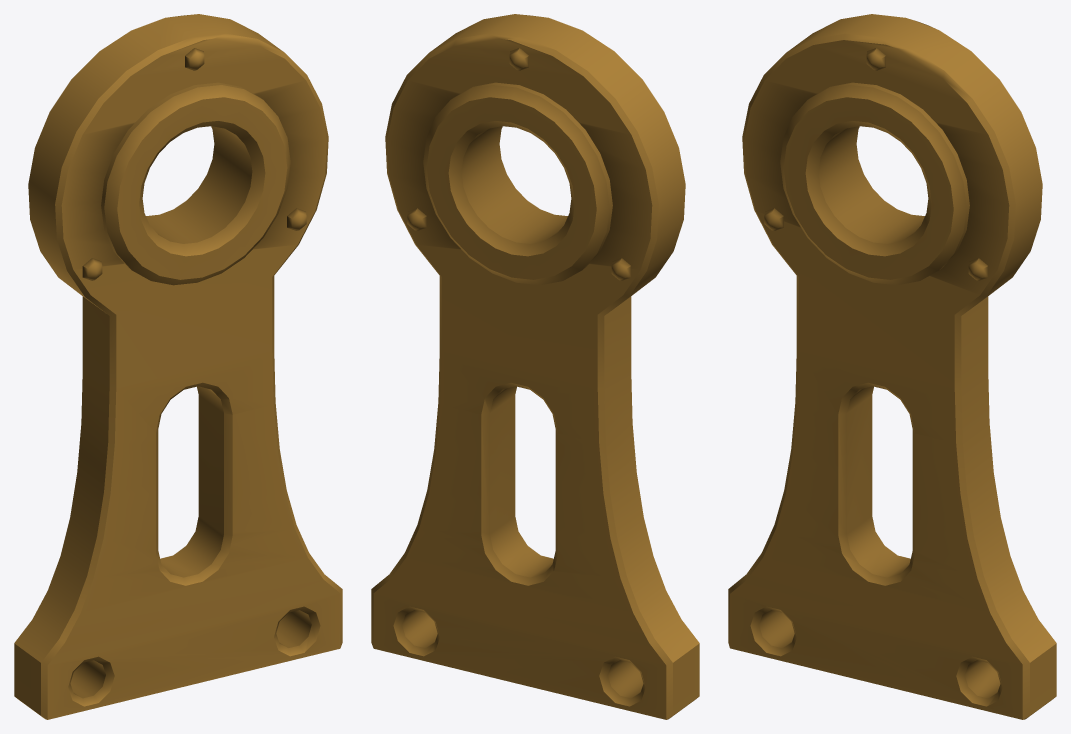
The model's file is bracket_support.glb.
The picture shows the model from 3 angles, left to right: view 1: azimuth 30°, elevation 25°; view 2: azimuth 150°, elevation 25°; view 3: azimuth 330°, elevation 25°; orthographic projection.
Visible parts, largest first — view 1: Bracket_Support; view 2: Bracket_Support; view 3: Bracket_Support.
Boxes of the visible parts, x1=… form: Bracket_Support: x1=14, y1=14, x2=342, y2=719; Bracket_Support: x1=371, y1=14, x2=699, y2=719; Bracket_Support: x1=728, y1=14, x2=1056, y2=719.
Bounding box in the file's own units: 0.022 × 0.045 × 0.006.
